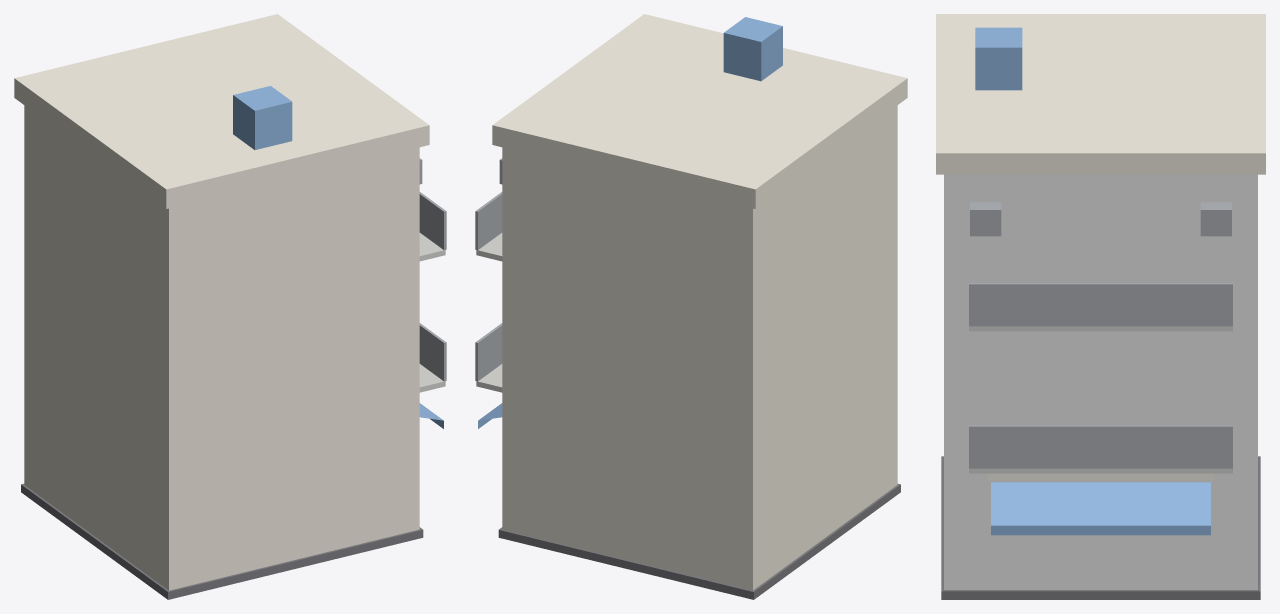
Rendered from Bldg_A.fbx.
3 renders of one model, left to right at view 1: azimuth 30°, elevation 25°; view 2: azimuth 150°, elevation 25°; view 3: azimuth 270°, elevation 25°, orthographic. The views are drawn at different scales.
Visible parts, largest first — view 1: Bldg_A; view 2: Bldg_A; view 3: Bldg_A.
Part boxes in pixels (x1,y1,x2,y2): Bldg_A: (14, 14, 446, 599); Bldg_A: (475, 14, 907, 599); Bldg_A: (936, 14, 1265, 599).
Size of the model in its own units: 7.25 by 10.35 by 6.3.
